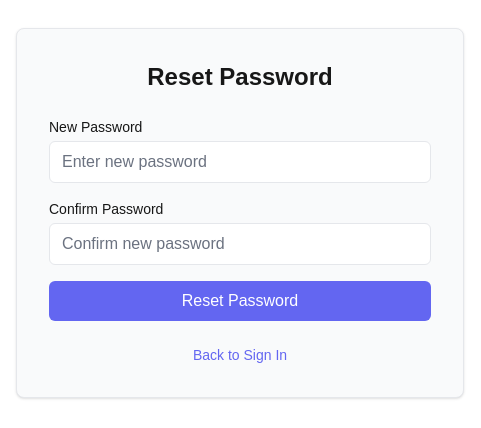
Scenario: ResetPasswordPage › shows validation error for empty confirm password
In the password field labelled "New Password": [240, 162] box [49,141,431,183], type "Str0ng!Pass"
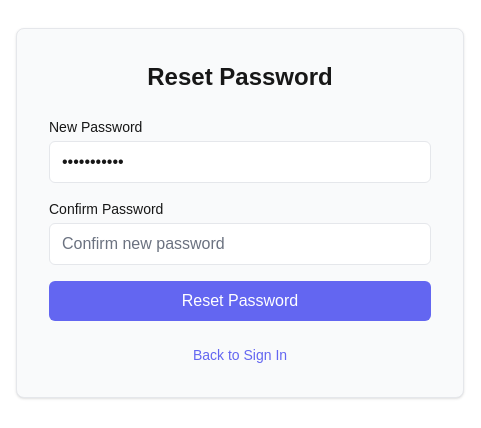
Click the button "Reset Password": [240, 301] box [49,281,431,321]
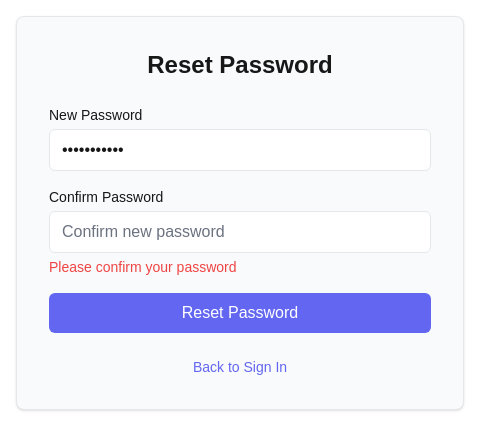
Expected: the text "Please confirm your password" is shown, [49,259,236,275]
